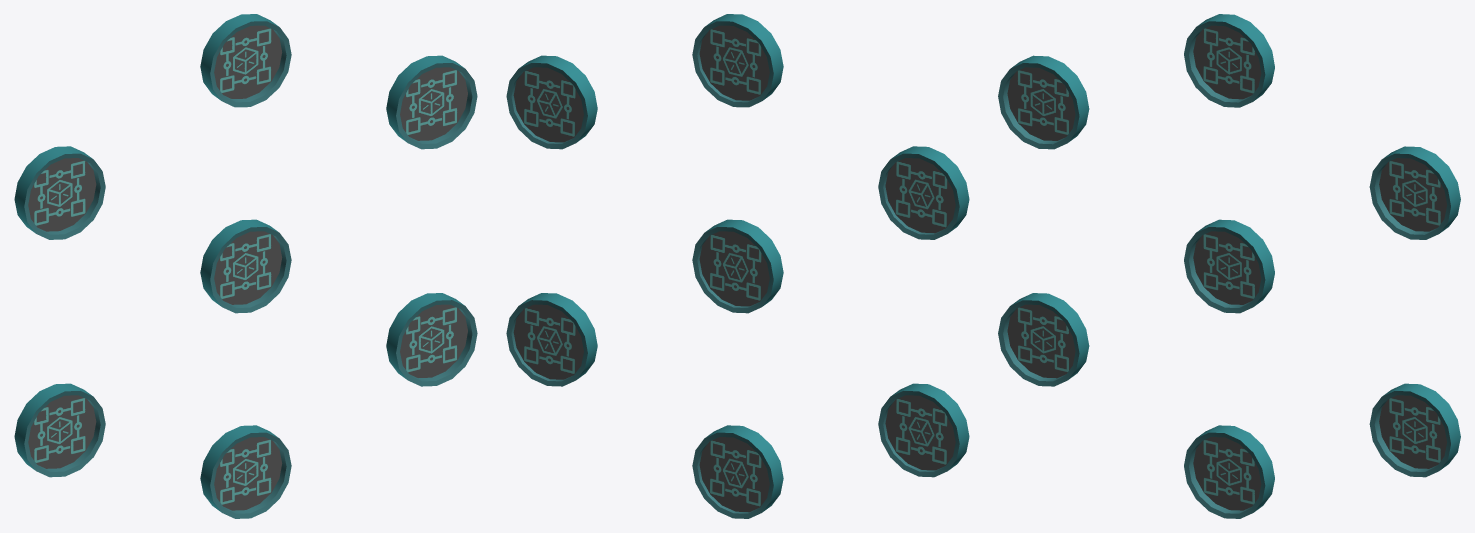
File: Circles.fbx
3 views of the same model, side by side, from view 1: azimuth 30°, elevation 25°; view 2: azimuth 150°, elevation 25°; view 3: azimuth 330°, elevation 25° (orthographic).
Parts seen in each view (by area): view 1: Circles; view 2: Circles; view 3: Circles.
Boxes of the visible parts, <box> form: Circles: <box>14,14,477,518</box>; Circles: <box>506,14,969,518</box>; Circles: <box>998,14,1460,518</box>.
Bounding box in the file's own units: 1250 × 1309 × 46.9.
